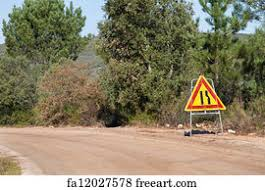narrow-road: (184, 75, 225, 109)
